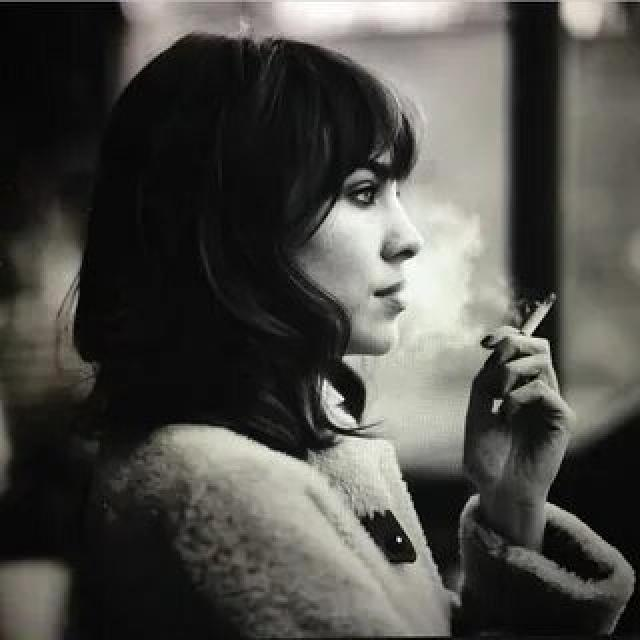cigarette: (510, 288, 564, 344)
